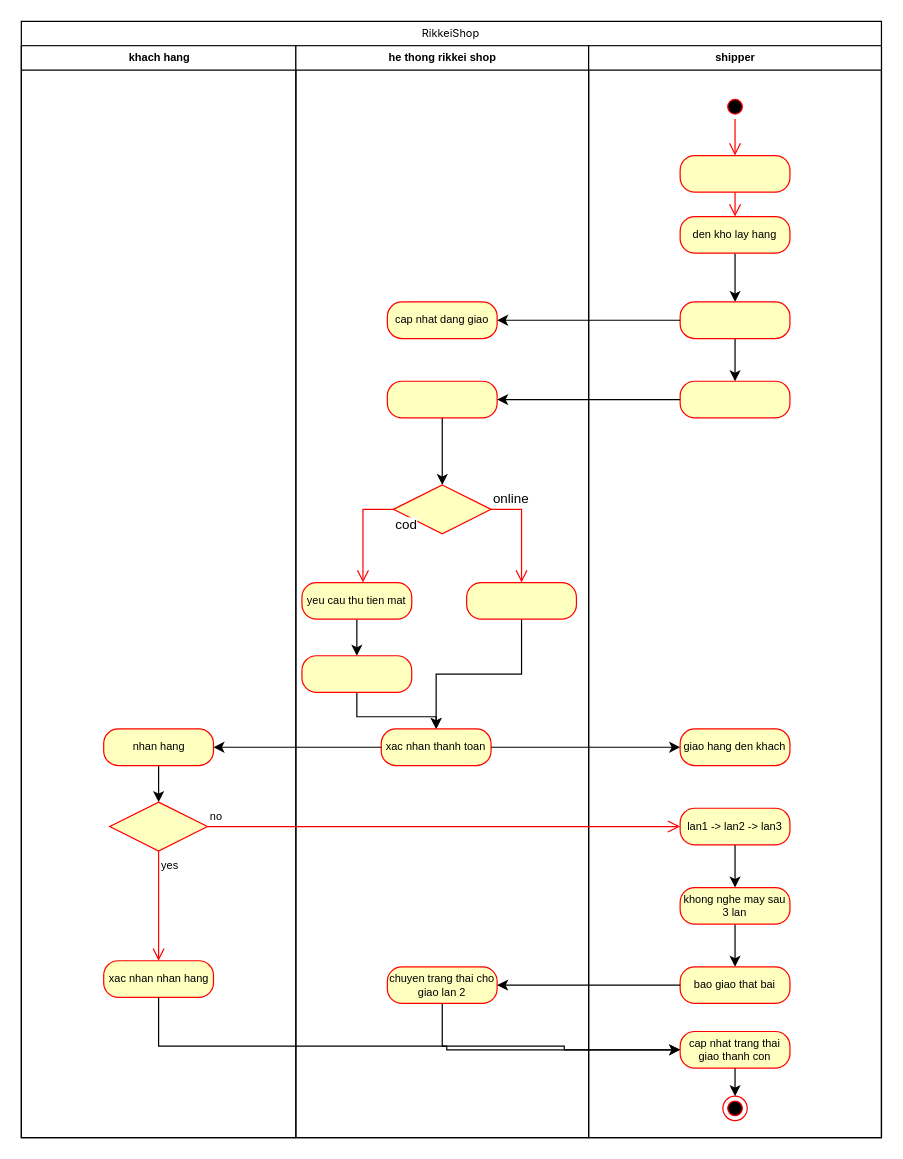
Some shapes in this 903 by 1159 pixel diagram are drawn without their labels. Each missing label, with the box of its shape:
bo qua thu tien: (465, 581, 576, 619)
cod or online: (392, 484, 491, 534)
khach co nghe may?: (109, 801, 207, 851)
khach tra tien: (301, 655, 412, 692)
kiem tra hinh thuc: (386, 380, 497, 418)
mang hang den nha khach: (679, 380, 790, 418)
nhan thong tin don hang: (679, 154, 790, 192)
xac nhan lay hang: (679, 301, 790, 339)
